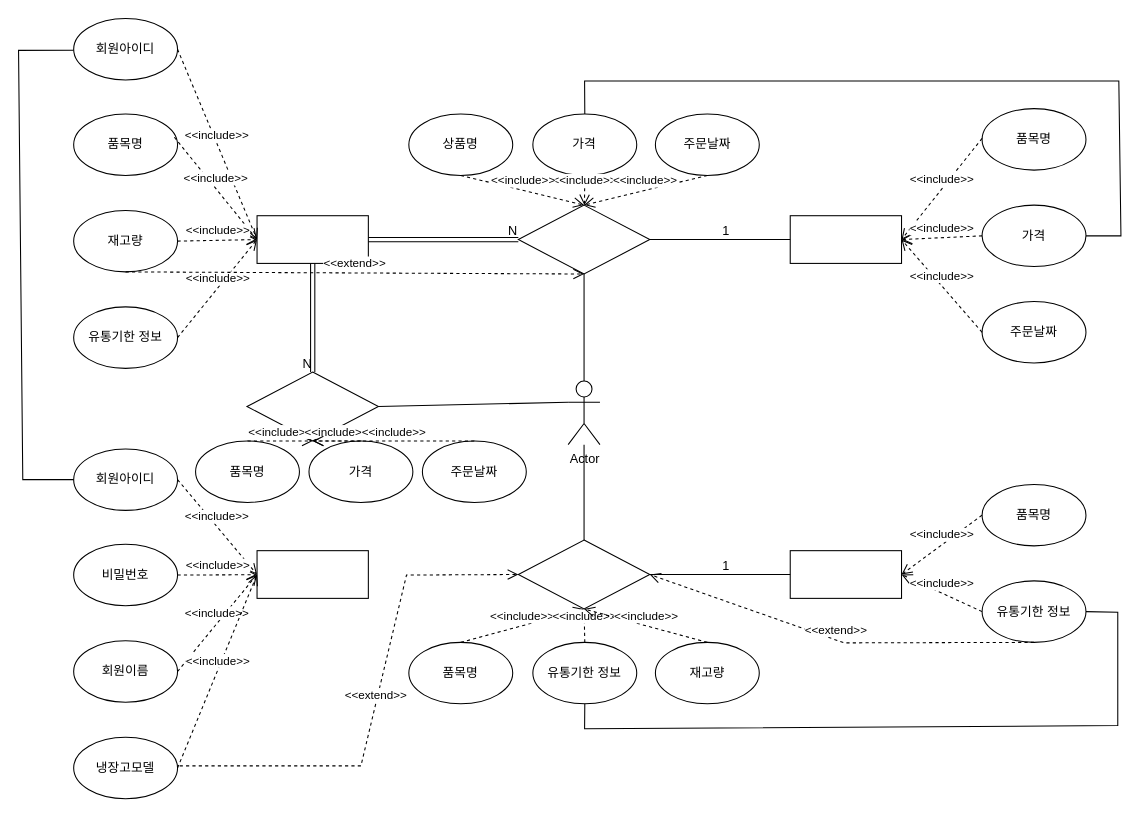
The diagram is 1141 pixels wide and 817 high, and some of its shapes have lost their labels. The centre of each missing label's shape, as x and y in pixels:
"유통기한" belongs at pixel 845 574.
"유통기한 조회" belongs at pixel 583 574.
"이전주문정보" belongs at pixel 845 239.
"주문" belongs at pixel 583 239.
"품목" belongs at pixel 312 239.
"품목 추가" belongs at pixel 312 406.
"회원" belongs at pixel 312 574.
